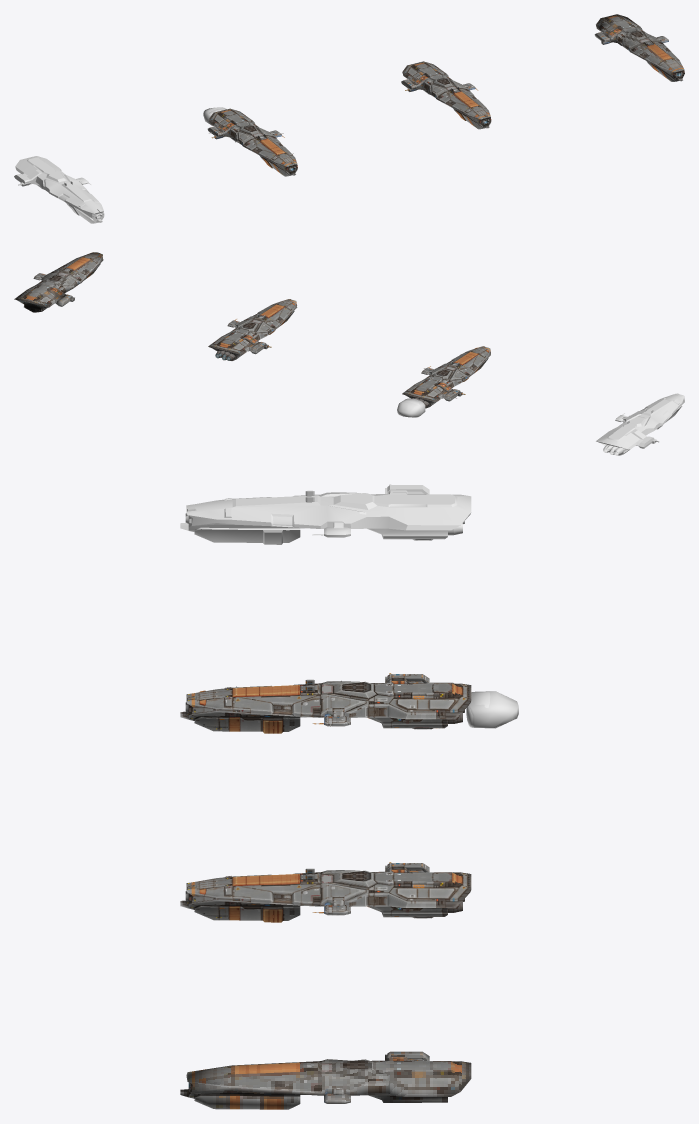
The model's file is hgn_ionfrigate_T1.dae.
3 views of the same model, one above another, from view 1: azimuth 30°, elevation 25°; view 2: azimuth 150°, elevation 25°; view 3: azimuth 270°, elevation 25° (orthographic). The views are drawn at different scales.
Visible parts, largest first — view 1: MULT[bodyMesh]_LOD[0]_TAGS[DoScar], MULT[bodyMesh]_LOD[1]_TAGS[DoScar], COL[Root], MULT[bodyMesh]_LOD[2]_TAGS[DoScar]; view 2: MULT[bodyMesh]_LOD[1]_TAGS[DoScar], COL[Root], MULT[bodyMesh]_LOD[2]_TAGS[DoScar], MULT[bodyMesh]_LOD[0]_TAGS[DoScar], GLOW[EngGlow_stg3]_LOD[0]; view 3: MULT[bodyMesh]_LOD[0]_TAGS[DoScar], COL[Root], MULT[bodyMesh]_LOD[1]_TAGS[DoScar], MULT[bodyMesh]_LOD[2]_TAGS[DoScar], GLOW[EngGlow_stg3]_LOD[0].
Boxes of the visible parts, bbox=[...] form: MULT[bodyMesh]_LOD[0]_TAGS[DoScar]: bbox=[207, 108, 297, 176]; MULT[bodyMesh]_LOD[1]_TAGS[DoScar]: bbox=[401, 61, 491, 129]; COL[Root]: bbox=[14, 156, 104, 223]; MULT[bodyMesh]_LOD[2]_TAGS[DoScar]: bbox=[594, 14, 684, 81]; MULT[bodyMesh]_LOD[1]_TAGS[DoScar]: bbox=[208, 299, 297, 360]; COL[Root]: bbox=[596, 393, 684, 455]; MULT[bodyMesh]_LOD[2]_TAGS[DoScar]: bbox=[14, 252, 103, 312]; MULT[bodyMesh]_LOD[0]_TAGS[DoScar]: bbox=[402, 346, 490, 408]; GLOW[EngGlow_stg3]_LOD[0]: bbox=[397, 398, 425, 417]; MULT[bodyMesh]_LOD[0]_TAGS[DoScar]: bbox=[180, 673, 471, 733]; COL[Root]: bbox=[180, 484, 471, 544]; MULT[bodyMesh]_LOD[1]_TAGS[DoScar]: bbox=[180, 862, 471, 922]; MULT[bodyMesh]_LOD[2]_TAGS[DoScar]: bbox=[180, 1051, 471, 1109]; GLOW[EngGlow_stg3]_LOD[0]: bbox=[466, 691, 518, 728].
Bounding box in the file's own units: 773 × 29.17 × 178.
